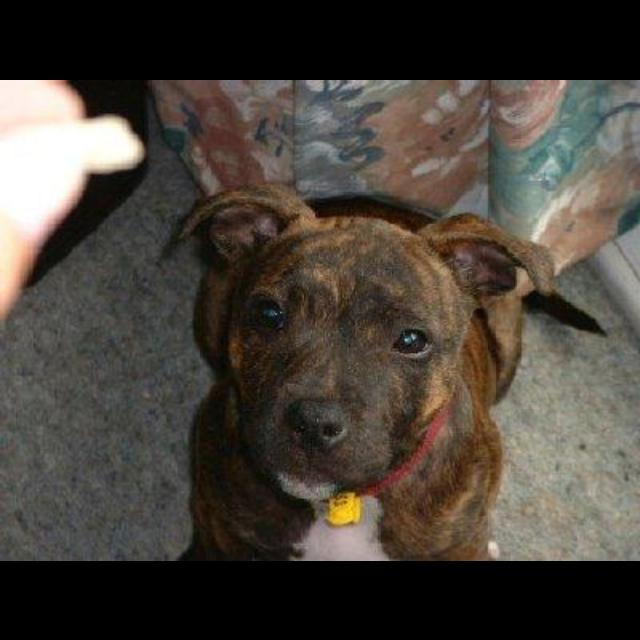staffford: (169, 181, 607, 560)
